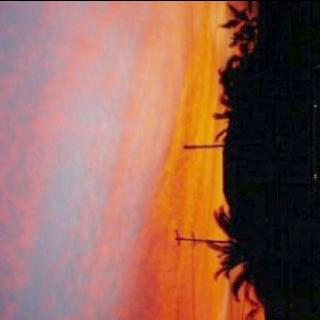Altostratus: (1, 0, 230, 320)
